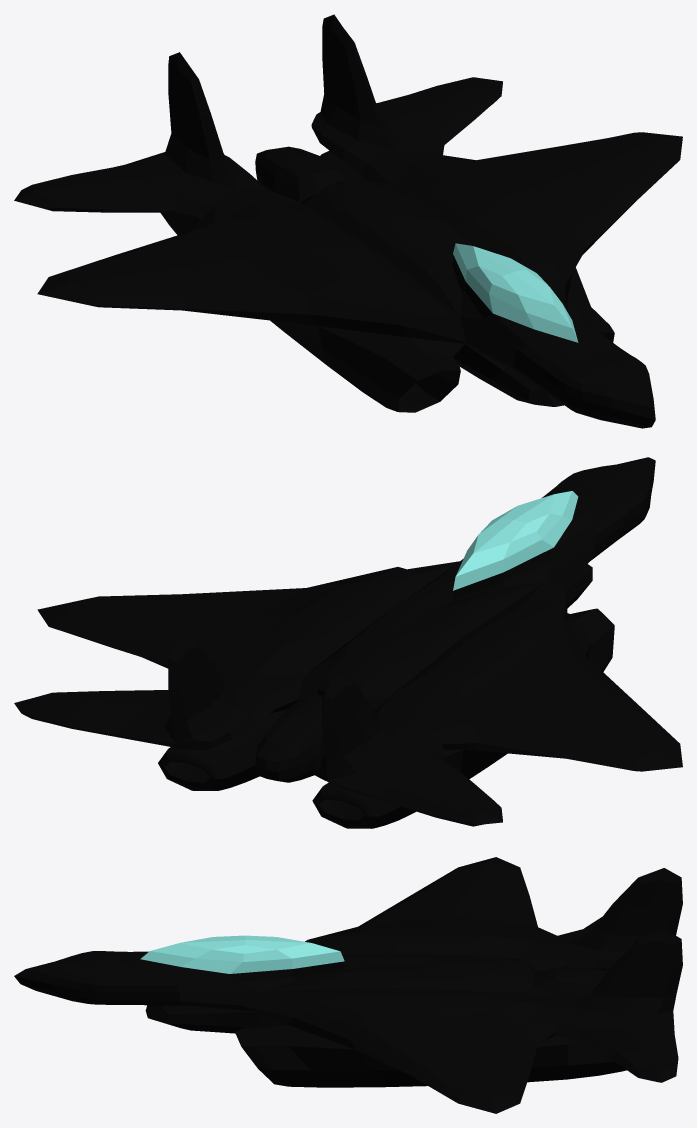
The model's file is enemyShip2.fbx.
The picture shows the model from 3 angles, top to bottom: view 1: azimuth 30°, elevation 25°; view 2: azimuth 150°, elevation 25°; view 3: azimuth 270°, elevation 25°; orthographic projection. The views are drawn at different scales.
Visible parts, largest first — view 1: Cube; view 2: Cube; view 3: Cube.
Boxes of the visible parts, box(x1,y1,x2,y2) form: Cube: box(14, 14, 682, 428); Cube: box(14, 457, 682, 828); Cube: box(14, 857, 682, 1113).
Bounding box in the file's own units: 1746 × 496 × 1921.
